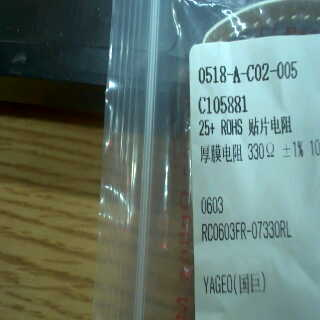330R: (244, 140, 280, 160)
